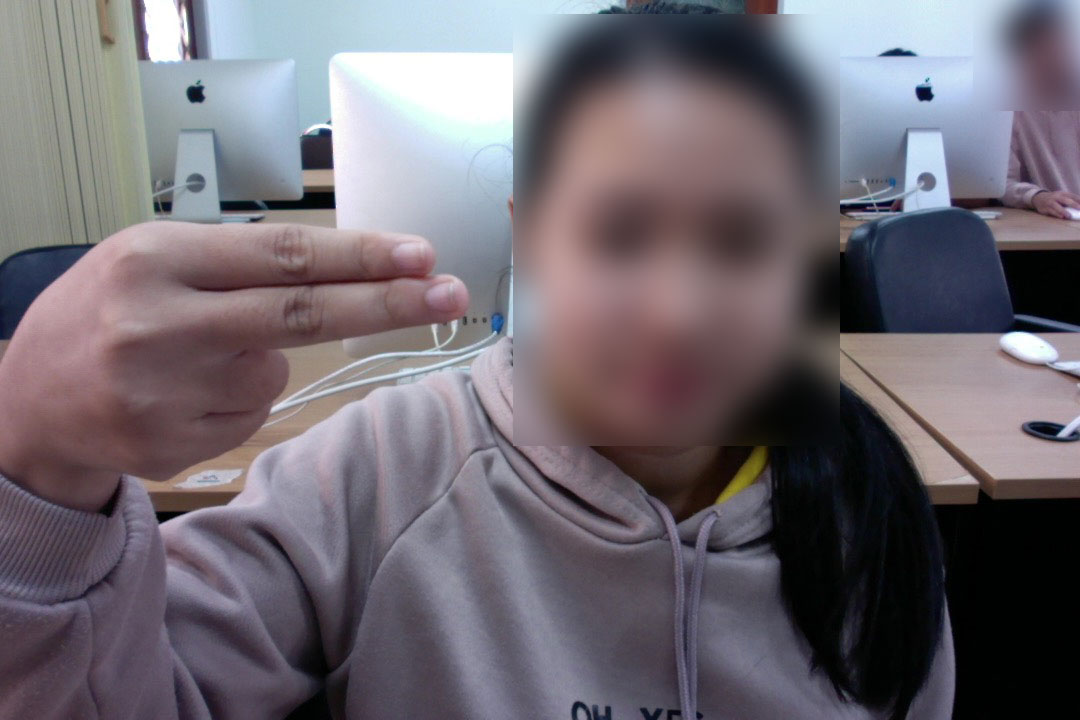hor: (4, 216, 485, 485)
